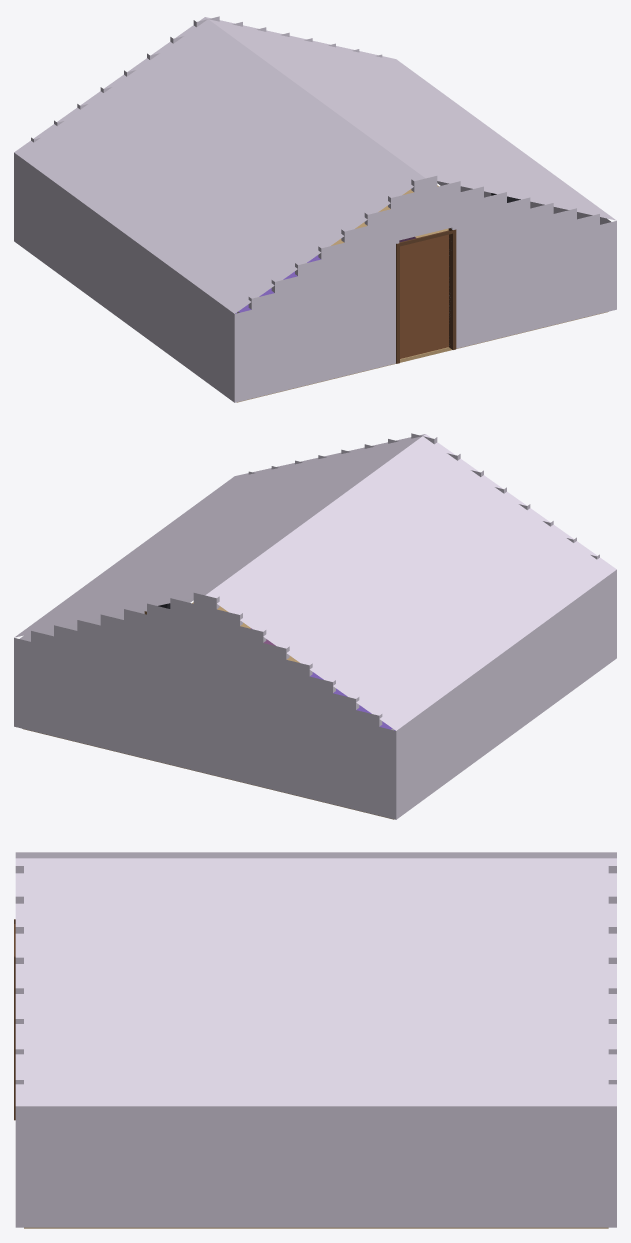
Rendered from room_game.glb.
3 views of the same model, one above another, from view 1: azimuth 30°, elevation 25°; view 2: azimuth 150°, elevation 25°; view 3: azimuth 270°, elevation 25° (orthographic). The views are drawn at different scales.
Visible parts, largest first — view 1: CEILING, WALLS, DOOR_bed_a, FRAMES, FLOOR_visible; view 2: CEILING, WALLS; view 3: CEILING, WALLS, FLOOR_visible.
Boxes of the visible parts, x1,y1,x2,y2 form: CEILING: [14, 17, 616, 313]; WALLS: [14, 16, 616, 402]; DOOR_bed_a: [400, 234, 448, 358]; FRAMES: [396, 228, 456, 363]; FLOOR_visible: [237, 311, 608, 402]; CEILING: [14, 434, 616, 730]; WALLS: [14, 433, 616, 819]; CEILING: [15, 852, 616, 1106]; WALLS: [15, 866, 616, 1227]; FLOOR_visible: [24, 1227, 608, 1228].
Bounding box in the file's own units: 7.2 × 3.26 × 7.22.
